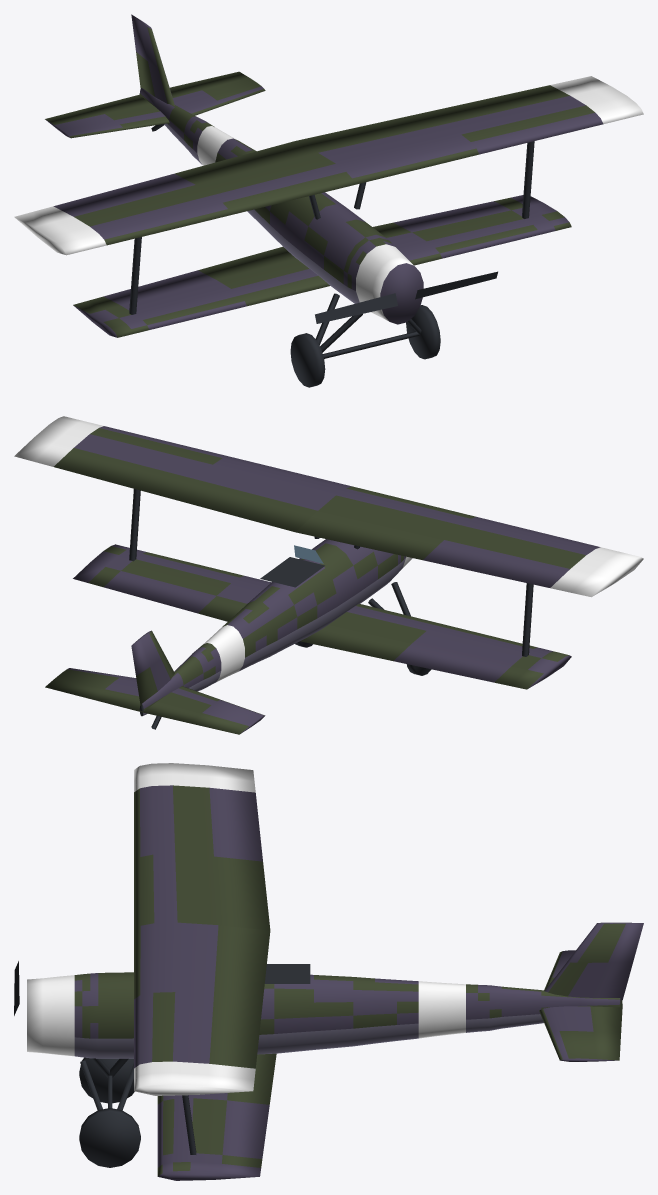
Rendered from fokker_d7.glb.
3 views of the same model, one above another, from view 1: azimuth 30°, elevation 25°; view 2: azimuth 150°, elevation 25°; view 3: azimuth 270°, elevation 25° (orthographic). The views are drawn at different scales.
Parts seen in each view (by area): view 1: body, prop; view 2: body; view 3: body.
Boxes of the visible parts, bbox=[...] form: body: bbox=[14, 14, 643, 387]; prop: bbox=[315, 271, 497, 323]; body: bbox=[14, 416, 643, 734]; body: bbox=[27, 763, 643, 1180].
Bounding box in the file's own units: 8.9 × 2.73 × 7.38.
